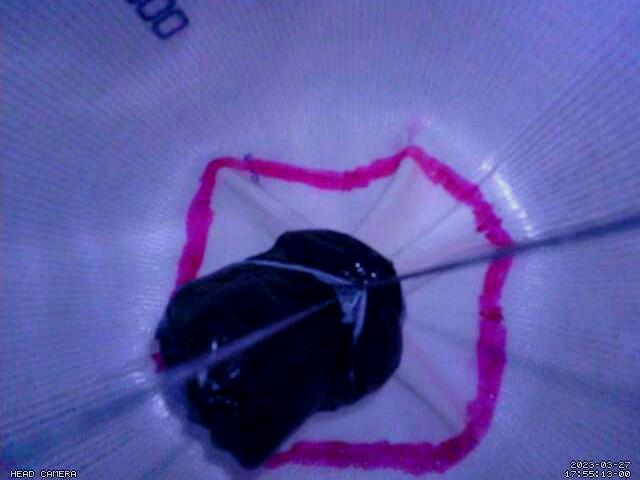red-circle: (176, 145, 517, 476)
